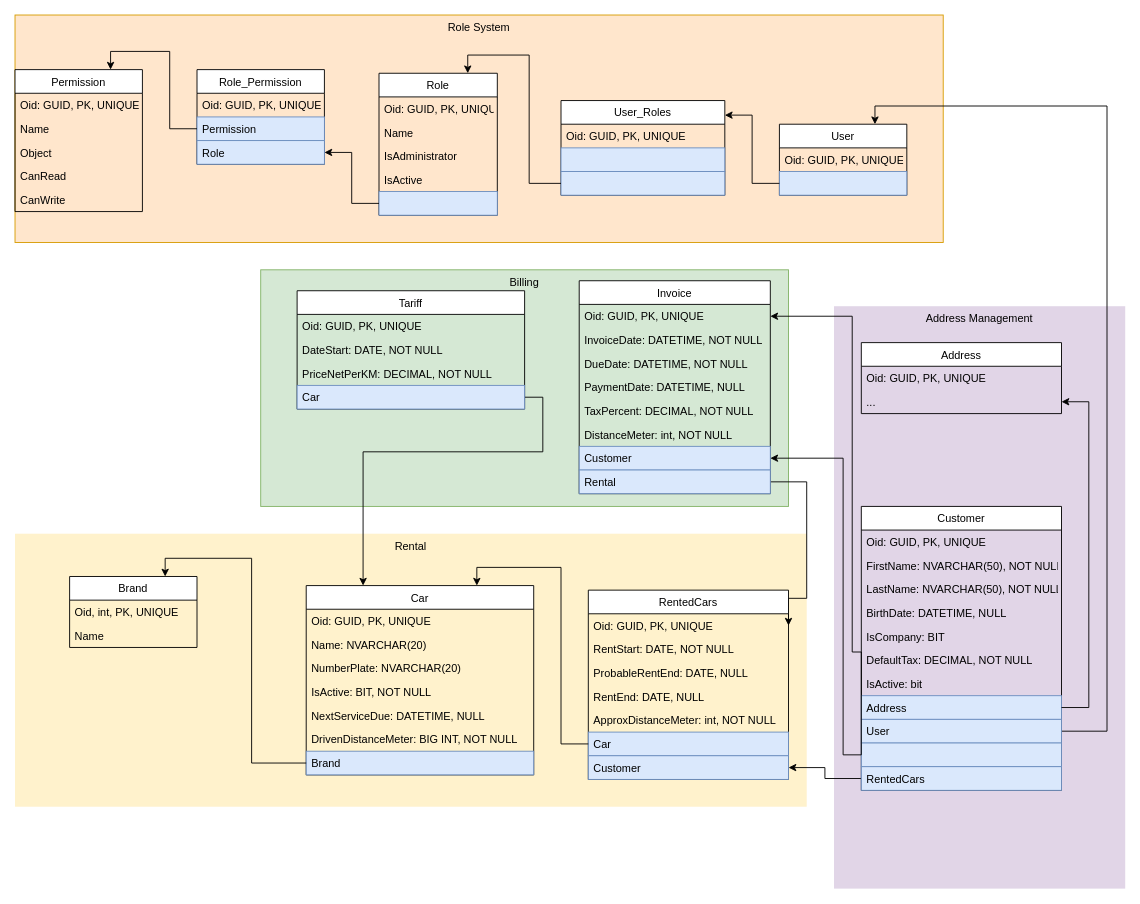
This 1140x904 diagram has some shape labels left out. The centre of each missing label's shape, as x and y in pixels:
Invoices: the point at 961,754
Permissions: the point at 437,203
Role: int, FK INDEXED UNIQUE: the point at 642,183
Roles: the point at 843,183
User: int, FK INDEXED UNIQUE: the point at 642,159
